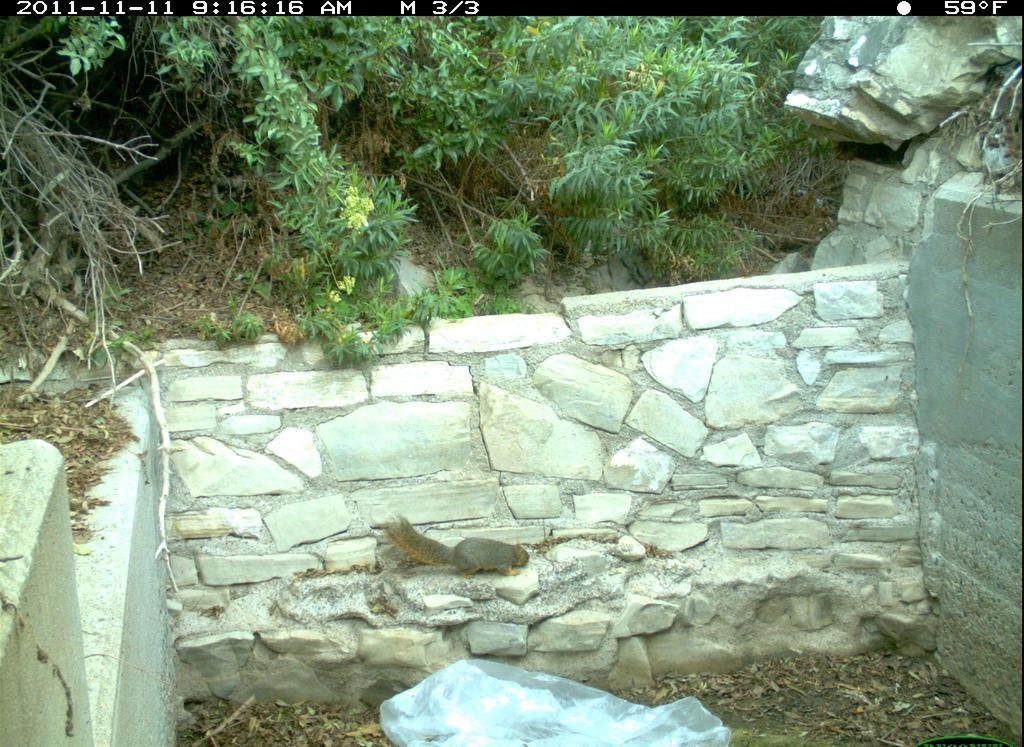squirrel: (382, 511, 546, 583)
